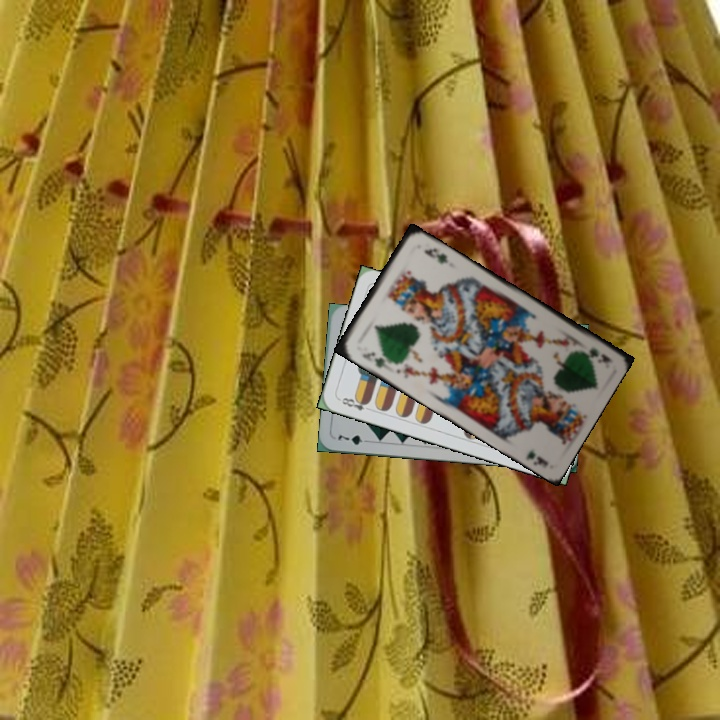E8: (335, 393, 374, 414)
G7: (334, 431, 373, 448)
GK: (575, 343, 614, 365), (358, 348, 392, 371)
